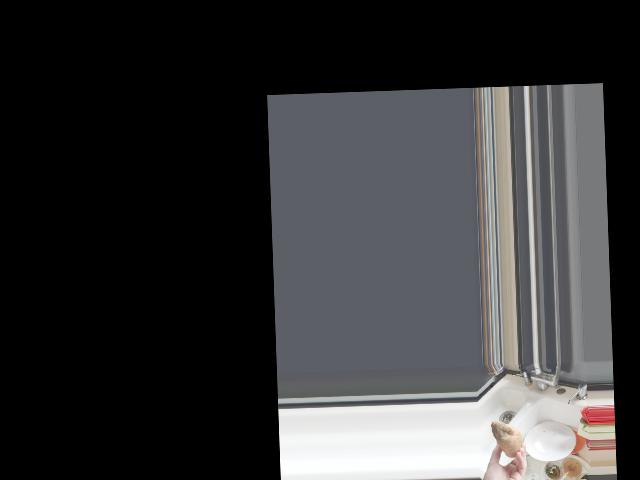sweet_potato: (488, 419, 524, 458)
